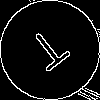T: (25, 25, 78, 80)
